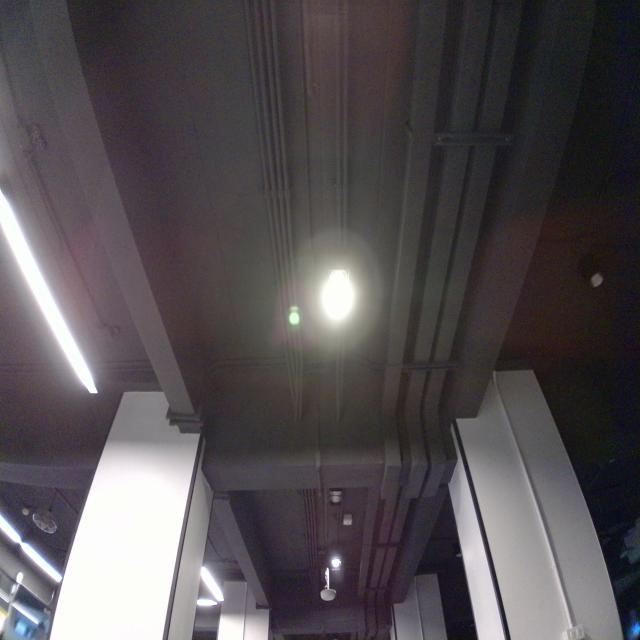lamp1_on: (308, 246, 369, 346)
